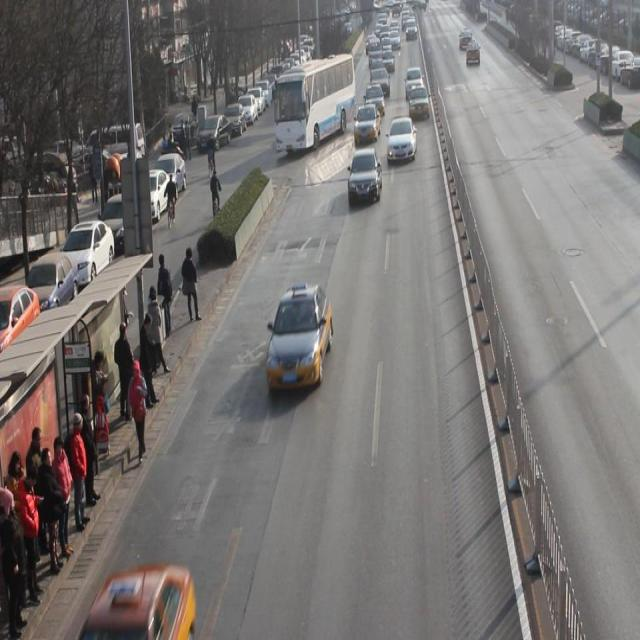car: (267, 283, 335, 387), (348, 148, 383, 206), (386, 117, 418, 162), (354, 105, 382, 144), (408, 84, 431, 120), (364, 84, 386, 117), (370, 68, 391, 100), (405, 67, 424, 100)
van: (272, 55, 356, 154)
